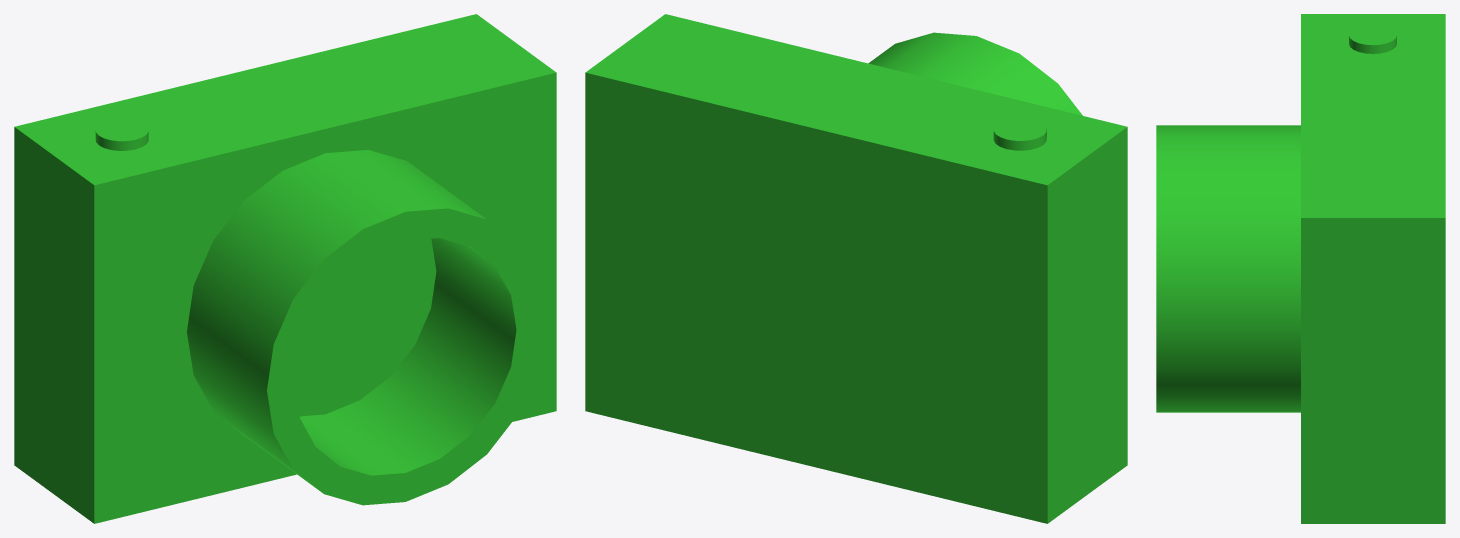
File: camera.obj
The picture shows the model from 3 angles, left to right: view 1: azimuth 30°, elevation 25°; view 2: azimuth 150°, elevation 25°; view 3: azimuth 270°, elevation 25°; orthographic projection. The views are drawn at different scales.
Parts seen in each view (by area): view 1: polySurface3; view 2: polySurface3; view 3: polySurface3.
Boxes of the visible parts, x1,y1,x2,y2 form: polySurface3: [14, 14, 556, 523]; polySurface3: [585, 14, 1127, 523]; polySurface3: [1156, 14, 1445, 523].
Size of the model in its own units: 1 by 0.72 by 0.6.
